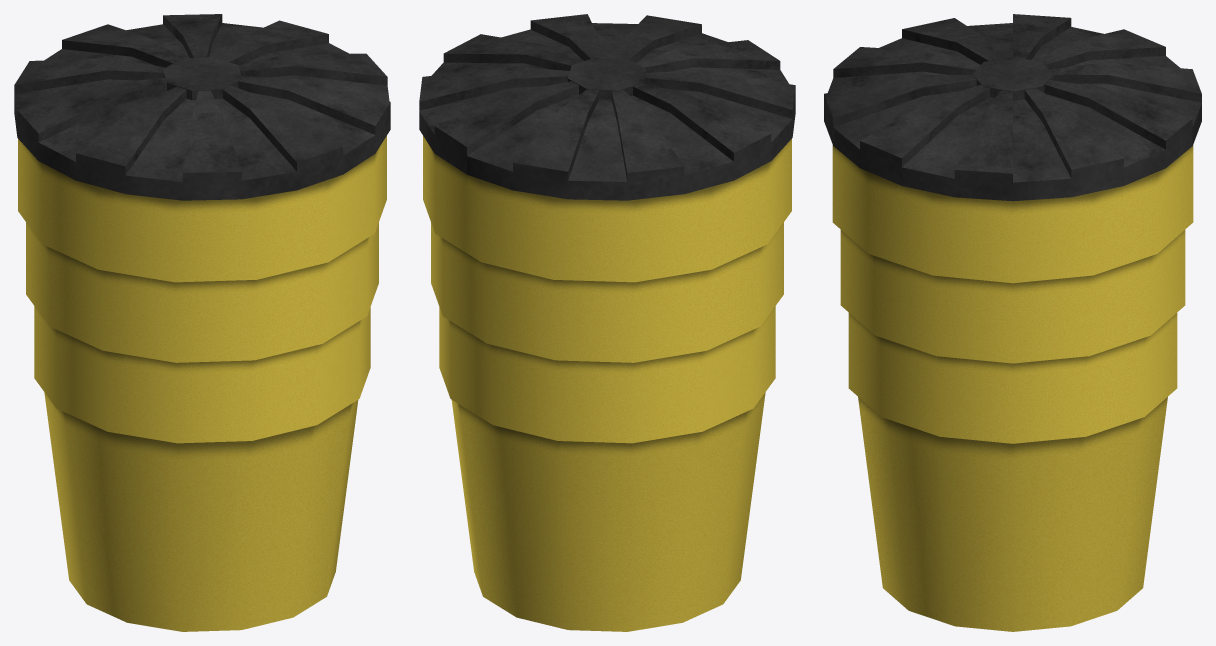
File: GSDRoadBarrel.fbx
3 renders of one model, left to right at view 1: azimuth 30°, elevation 25°; view 2: azimuth 150°, elevation 25°; view 3: azimuth 270°, elevation 25°, orthographic.
Parts seen in each view (by area): view 1: GSDRoadBarrel; view 2: GSDRoadBarrel; view 3: GSDRoadBarrel.
Part boxes in pixels (box(x1,y1,x2,y2)): GSDRoadBarrel: box(14, 14, 390, 631); GSDRoadBarrel: box(419, 14, 795, 631); GSDRoadBarrel: box(824, 14, 1201, 631).
Bounding box in the file's own units: 0.92 × 1.35 × 0.92.
